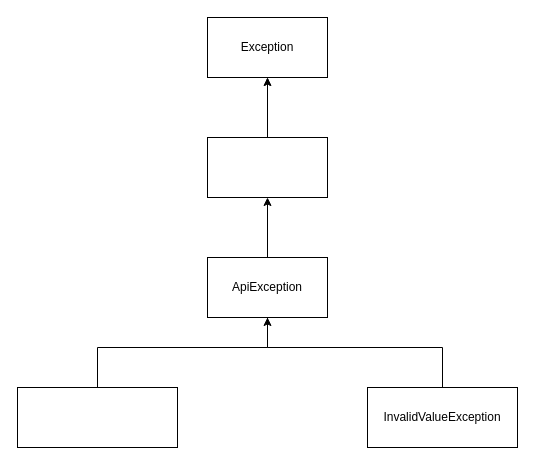
Image size: 535x465. Some labels were removed from this diagram. The shapes that lost their labels are listed below. From the top down, each one's centre as x and y in pixels, then its label:
At pixel 267 167: "RuntimeException".
At pixel 97 417: "EntityNotFoundException".
